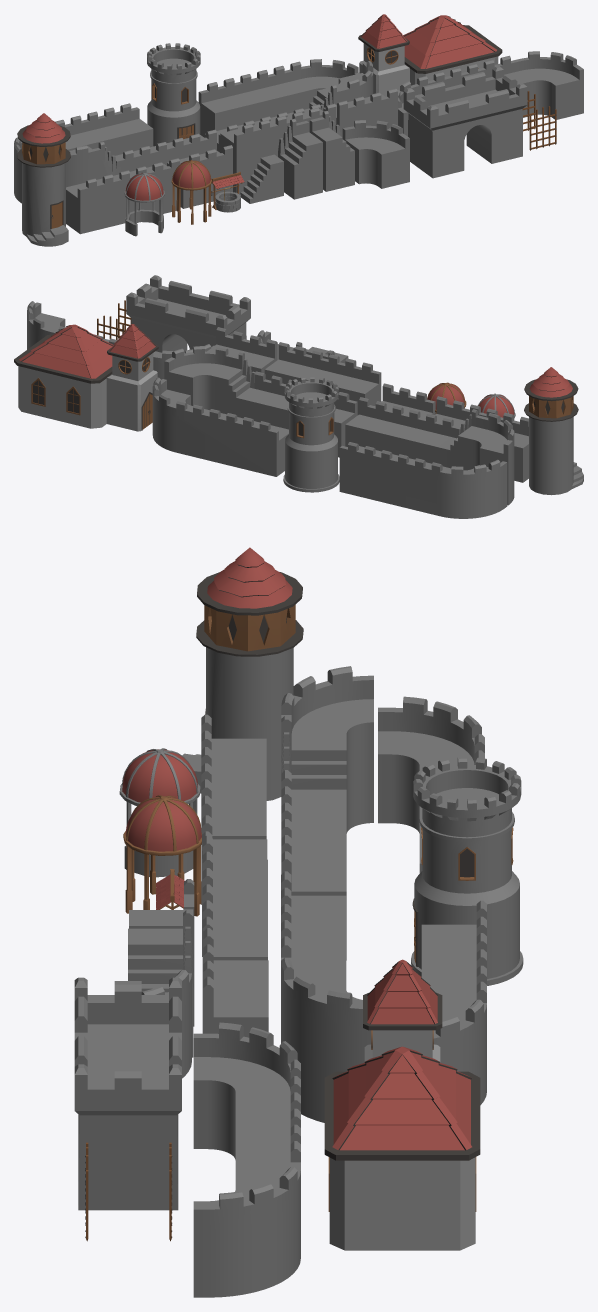
The model's file is low_poly_castle.fbx.
The picture shows the model from 3 angles, top to bottom: view 1: azimuth 30°, elevation 25°; view 2: azimuth 150°, elevation 25°; view 3: azimuth 270°, elevation 25°; orthographic projection. The views are drawn at different scales.
Parts seen in each view (by area): view 1: CastleGate, Chapel, Wall5-1, Tower2, Wall6, Tower1, Wall1, SteppedWall1, Wall5, Corner, Wall3, Steps2 (+9 smaller); view 2: Chapel, Wall5, SteppedWall1, Wall5-1, SteppedWall2, CastleGate, Tower1, Tower2, Wall3, Wall1, Wall4, Wall6 (+3 smaller); view 3: Chapel, Wall6, CastleGate, Tower1, SteppedWall1, Tower2, SteppedWall2, Wall5-1, Wall5, Wall3, Wall1, Gazebo2 (+6 smaller).
Part boxes in pixels (<box>): CastleGate: <box>403,66,527,178</box>; Chapel: <box>358,14,502,96</box>; Wall5-1: <box>198,59,359,137</box>; Tower2: <box>17,113,70,246</box>; Wall6: <box>397,51,583,136</box>; Tower1: <box>147,43,200,146</box>; Wall1: <box>66,158,179,234</box>; SteppedWall1: <box>66,129,216,187</box>; Wall5: <box>14,103,153,203</box>; Corner: <box>342,120,409,188</box>; Wall3: <box>220,103,336,194</box>; Steps2: <box>278,118,322,199</box>; Chapel: <box>14,324,158,431</box>; Wall5: <box>339,442,507,518</box>; SteppedWall1: <box>345,397,514,505</box>; Wall5-1: <box>152,377,288,476</box>; SteppedWall2: <box>164,346,357,457</box>; CastleGate: <box>126,275,250,352</box>; Tower1: <box>283,376,339,492</box>; Tower2: <box>524,367,583,495</box>; Wall3: <box>264,342,381,414</box>; Wall1: <box>435,396,528,482</box>; Wall4: <box>207,327,277,373</box>; Wall6: <box>27,301,214,379</box>; Chapel: <box>324,959,480,1250</box>; Wall6: <box>193,1022,300,1297</box>; CastleGate: <box>74,977,181,1210</box>; Tower1: <box>411,757,523,985</box>; SteppedWall1: <box>281,666,373,960</box>; Tower2: <box>182,547,303,800</box>; SteppedWall2: <box>281,871,371,1122</box>; Wall5-1: <box>421,900,486,1105</box>; Wall5: <box>378,696,484,873</box>; Wall3: <box>202,835,267,1033</box>; Wall1: <box>201,714,266,904</box>; Gazebo2: <box>123,795,201,916</box>.
Size of the model in its own units: 4644 by 960 by 1643.
